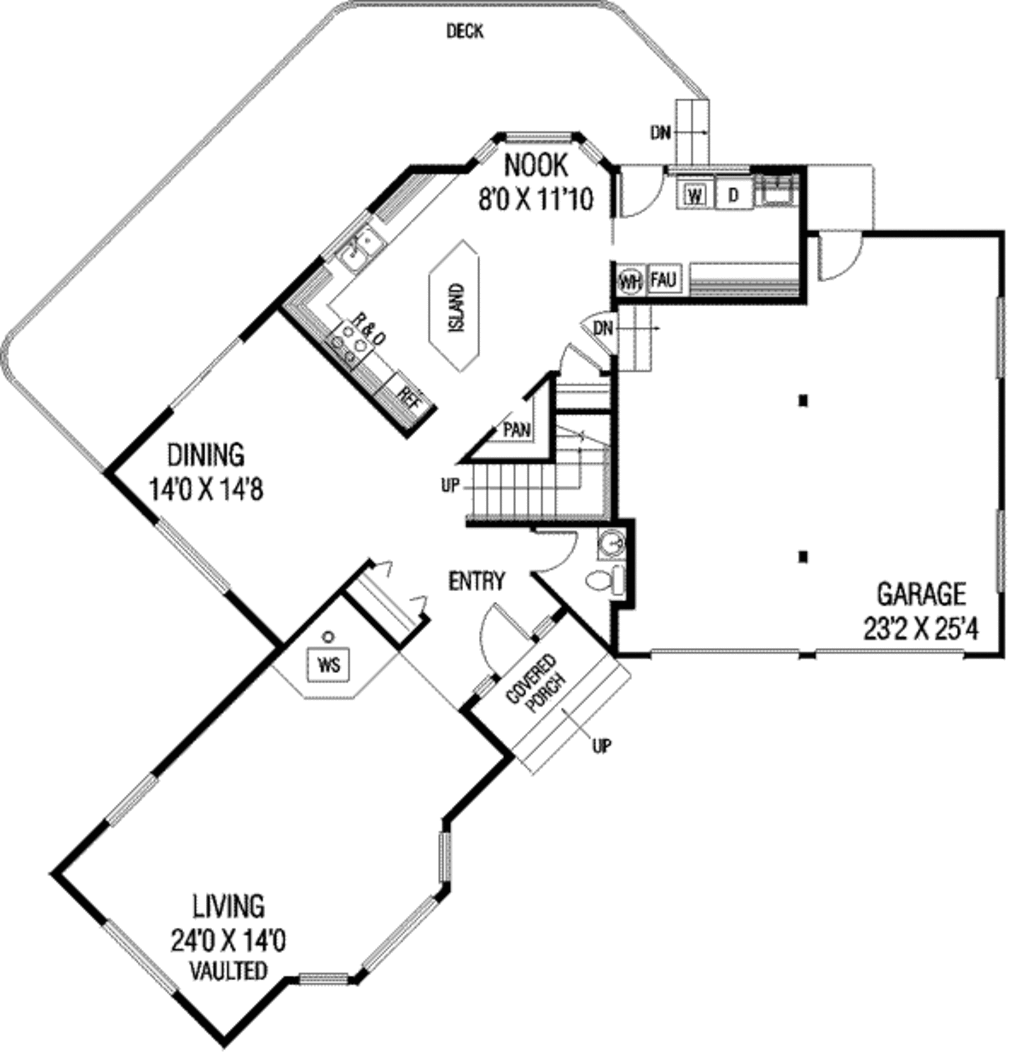door: (460, 598, 539, 677), (515, 521, 581, 576), (615, 158, 665, 223), (818, 224, 865, 284), (581, 310, 622, 357), (559, 345, 594, 377)
large_sink: (576, 561, 636, 600)
small_sink: (588, 521, 631, 563)
stairs: (462, 381, 625, 515), (617, 305, 668, 371)
twin_sink: (333, 220, 401, 287)
window: (94, 913, 188, 1002), (357, 895, 439, 973), (154, 513, 231, 592), (101, 766, 180, 832), (286, 963, 354, 990), (430, 829, 454, 887), (489, 129, 572, 145), (993, 290, 1007, 382), (997, 508, 1009, 592)
